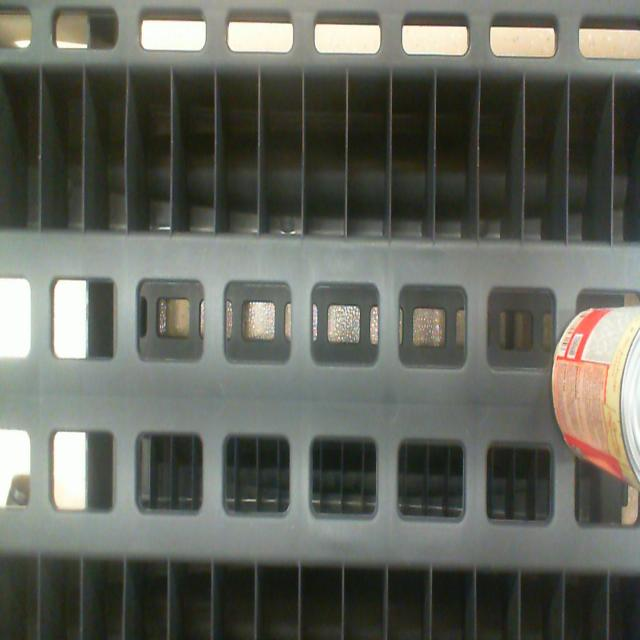can: (621, 316, 640, 485)
